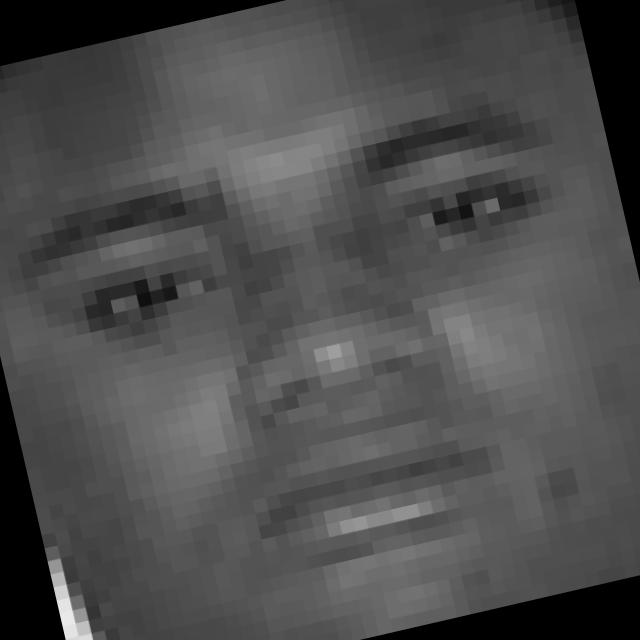neutral: (1, 81, 640, 624)
